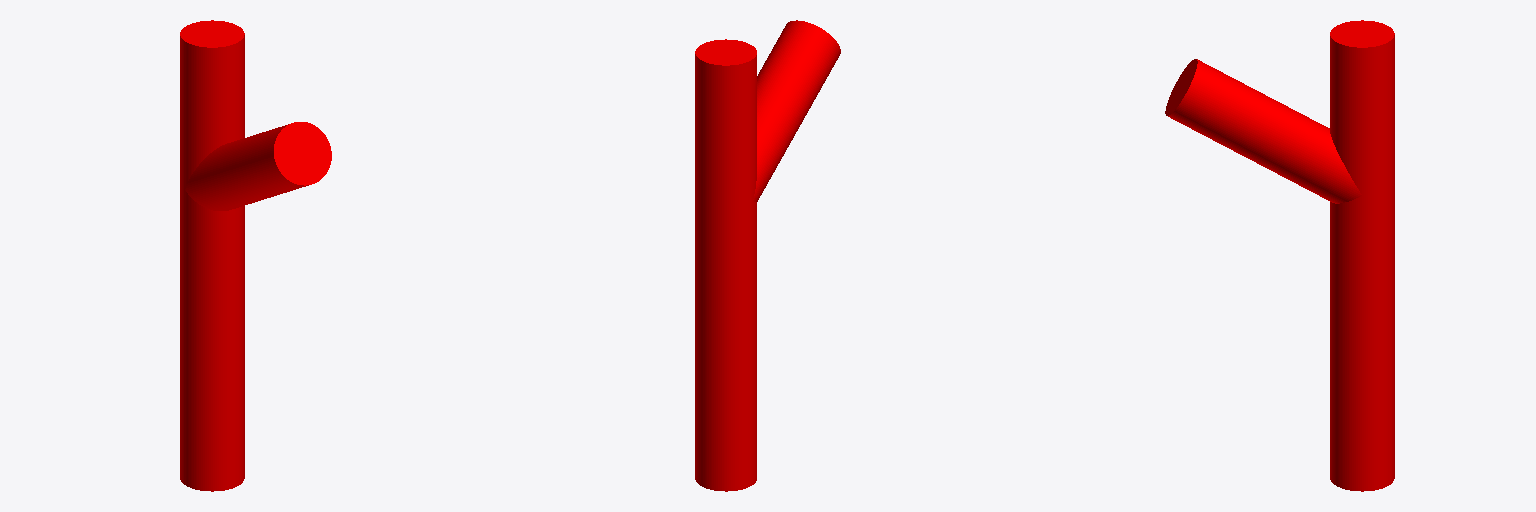
robot.urdf — tree.urdf:
<?xml version="1.0" ?>
<robot name="tree.urdf">
  <link name="baseLink">
    <inertial>
      <origin rpy="0 0 0" xyz="0 0 0"/>
       <mass value=".1"/>
       <inertia ixx="1" ixy="0" ixz="0" iyy="1" iyz="0" izz="1"/>
    </inertial>
    <visual>
      <origin rpy="0 0 0" xyz="0 0 0"/>
      <geometry>
        <mesh filename="17.stl" scale="1 1 1" />
      </geometry>
      <material name="red">
        <color rgba="1 0 0 1"/>
      </material>
    </visual>
    <collision>
      <origin rpy="0 0 0" xyz="0 0 0"/>
      <geometry>
        <mesh filename="17_convex.obj" scale="1 1 1" />
      </geometry>
    </collision>
  </link>
</robot>

--- Facts derived from the render (not from the file) ---
The picture shows the robot from 3 angles, left to right: view 1: azimuth 30°, elevation 25°; view 2: azimuth 150°, elevation 25°; view 3: azimuth 270°, elevation 25°; orthographic projection.
Model tree.urdf with 1 links and 0 joints (none), rooted at baseLink, posed every joint at zero.
Links seen in each view (by area): view 1: baseLink; view 2: baseLink; view 3: baseLink.
Boxes of the visible links, x1,y1,x2,y2 form: baseLink: (180,20,331,491); baseLink: (695,20,840,491); baseLink: (1165,20,1394,491).
Size in the robot's own frame: 0.0329 by 0.117 by 0.25 metres.
Meshes: 1 distinct files referenced, 1 mesh visuals loaded (1 binary STL).